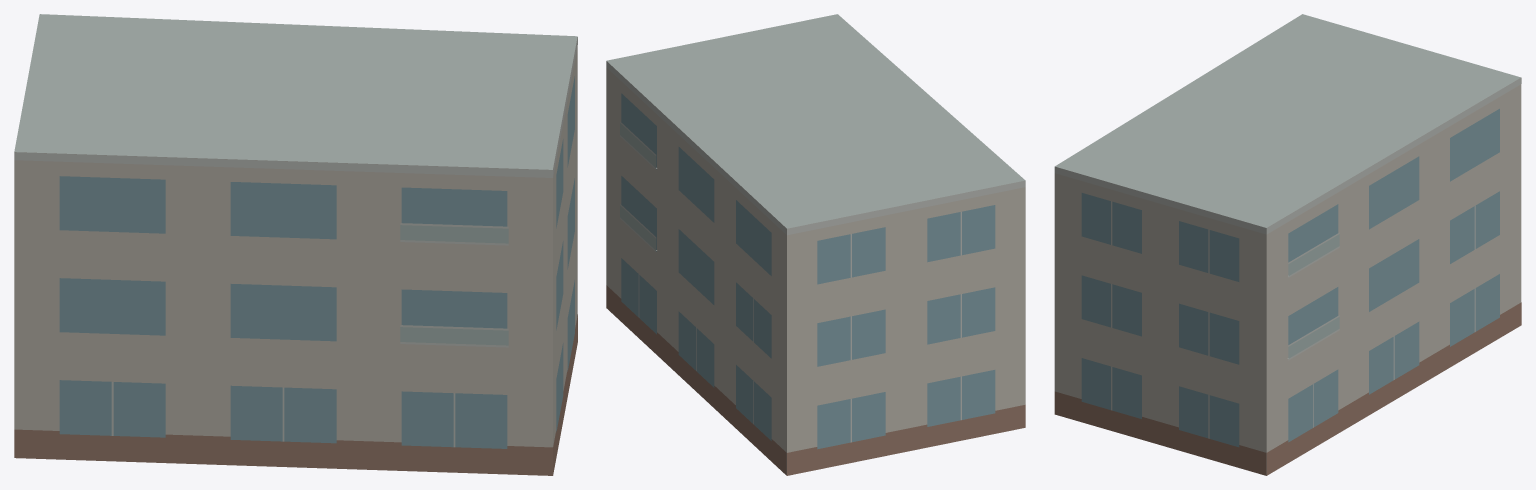
File: survey-upis-32704772.glb
The picture shows the model from 3 angles, left to right: view 1: azimuth 30°, elevation 25°; view 2: azimuth 150°, elevation 25°; view 3: azimuth 270°, elevation 25°; orthographic projection. The views are drawn at different scales.
Parts seen in each view (by area): view 1: survey-upis-32704772.tmp; view 2: survey-upis-32704772.tmp; view 3: survey-upis-32704772.tmp.
Boxes of the visible parts, bbox=[...] form: survey-upis-32704772.tmp: bbox=[14, 14, 577, 475]; survey-upis-32704772.tmp: bbox=[606, 14, 1025, 475]; survey-upis-32704772.tmp: bbox=[1054, 14, 1521, 475].
Bounding box in the file's own units: 16.95 × 9.15 × 15.62.
